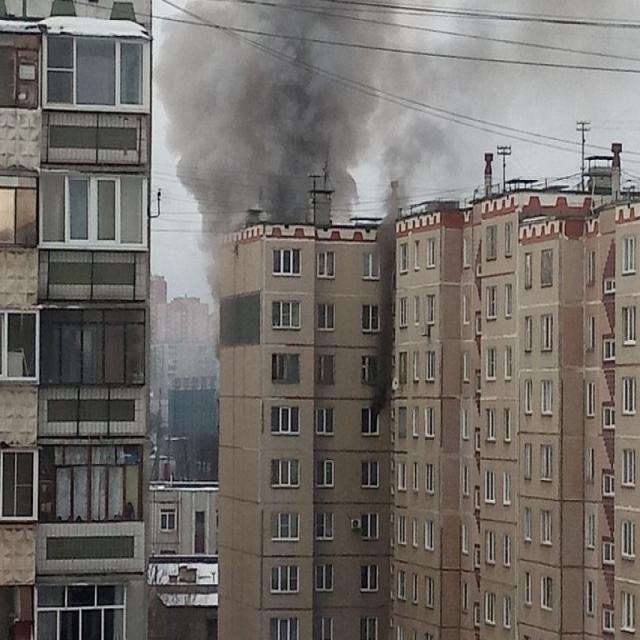Smoke: (151, 0, 492, 246)
